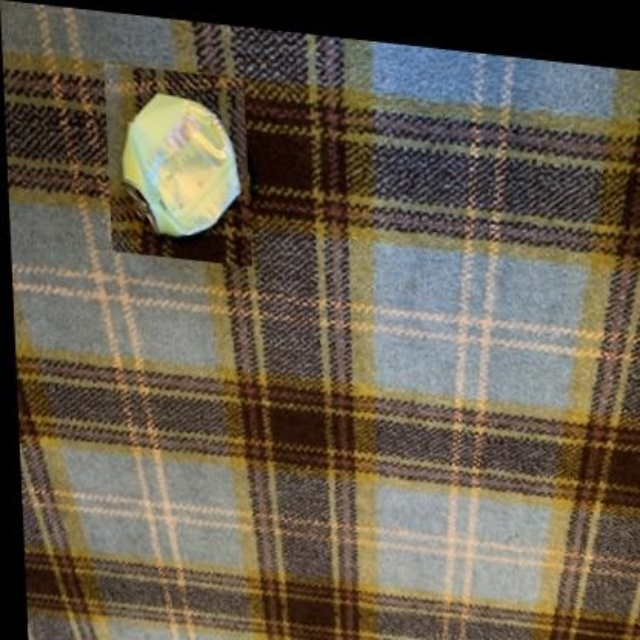trash: (123, 94, 238, 235)
